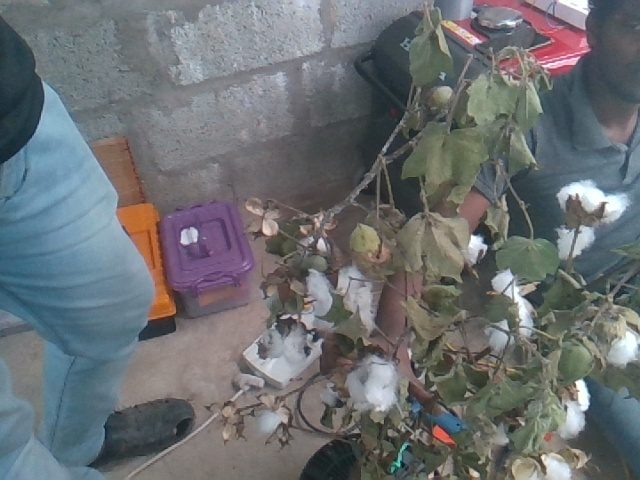cotton: (344, 356, 394, 409), (606, 327, 640, 373)
